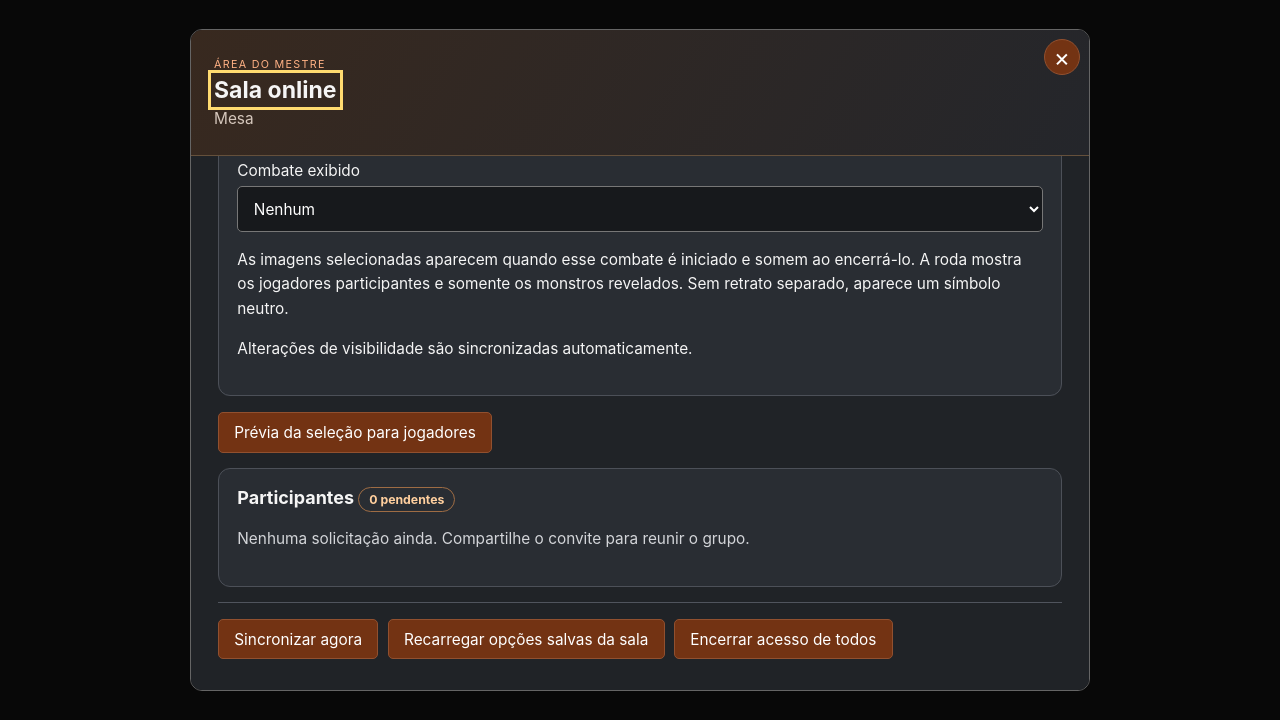
it: encerrar mostra imediatamente o novo convite reservado
The width and height of the screenshot is (1280, 720).
(page scrolled)
Click the button "Encerrar acesso de todos" at [783, 639], box [674,618,893,659]
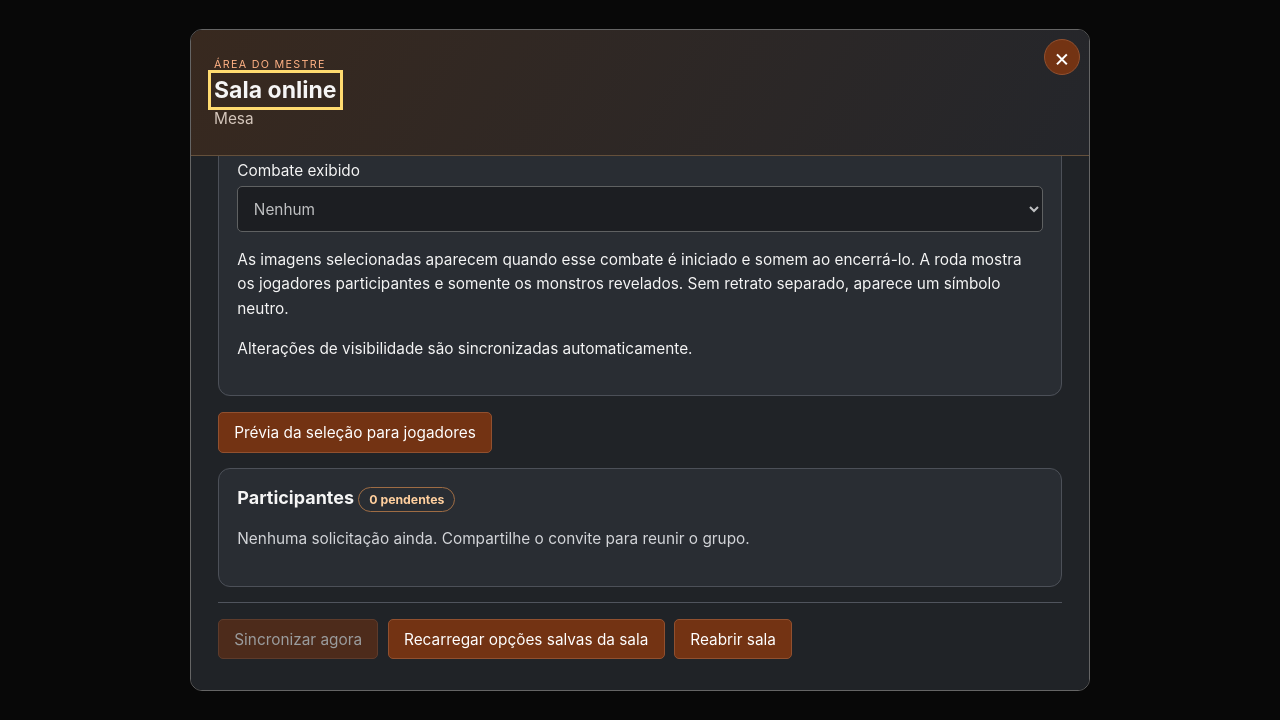
Result: the button "Reabrir sala" is shown at [674,618,792,659]
